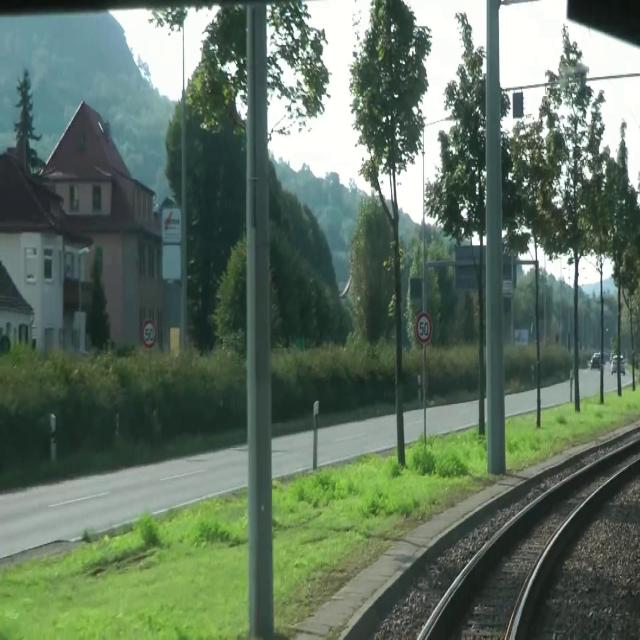rail-track: (427, 442, 640, 639)
